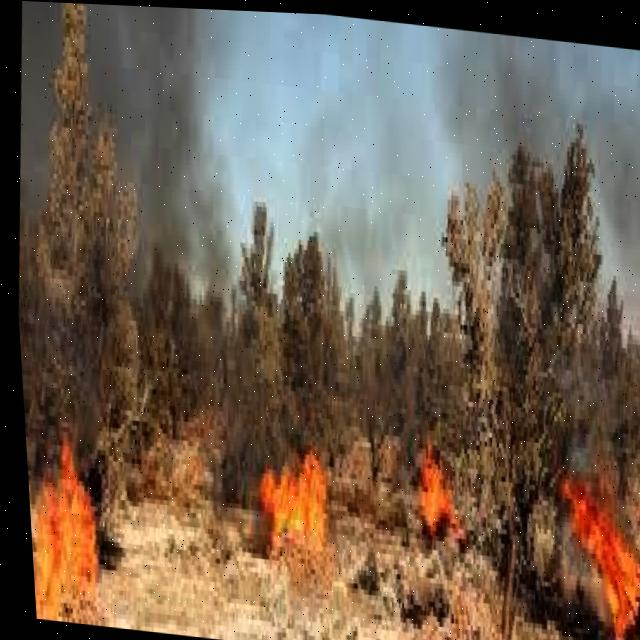fire: (552, 478, 640, 640), (28, 492, 93, 599), (261, 462, 320, 544), (408, 451, 453, 536)
smoke: (448, 24, 640, 182), (82, 3, 213, 220), (16, 1, 60, 230)
